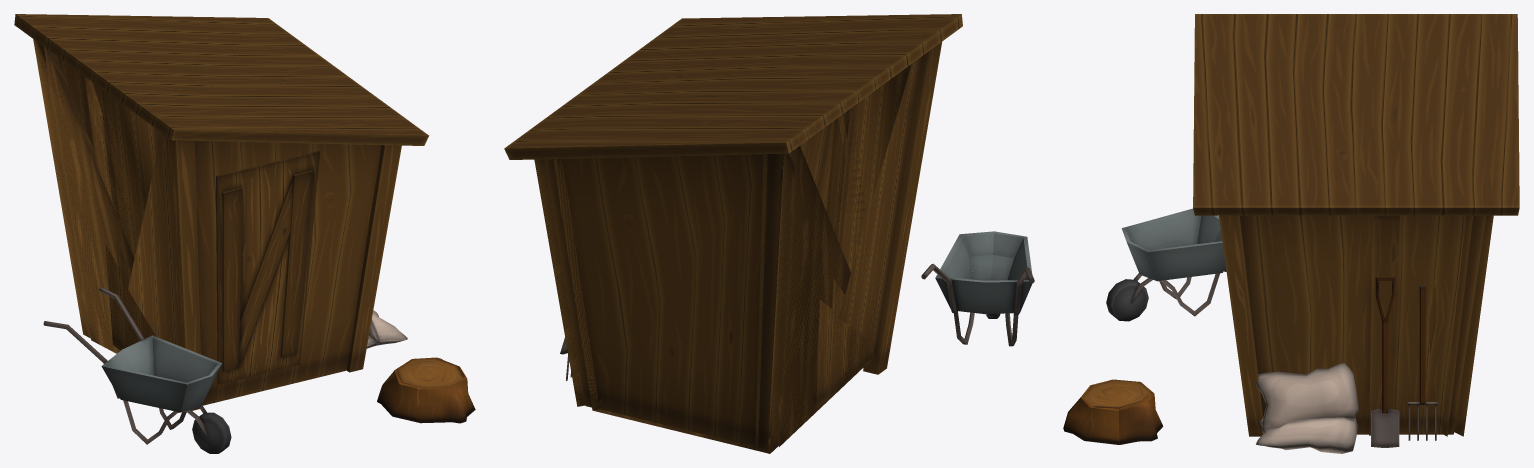
Rendered from hut.FBX.
The picture shows the model from 3 angles, left to right: view 1: azimuth 30°, elevation 25°; view 2: azimuth 150°, elevation 25°; view 3: azimuth 270°, elevation 25°; orthographic projection. The views are drawn at different scales.
Visible parts, largest first — view 1: shack01; view 2: shack01; view 3: shack01.
Part boxes in pixels (bbox=[...]): shack01: bbox=[14, 14, 475, 453]; shack01: bbox=[504, 14, 1034, 453]; shack01: bbox=[1063, 14, 1519, 453].
Size of the model in its own units: 30.17 by 31.88 by 24.36.
